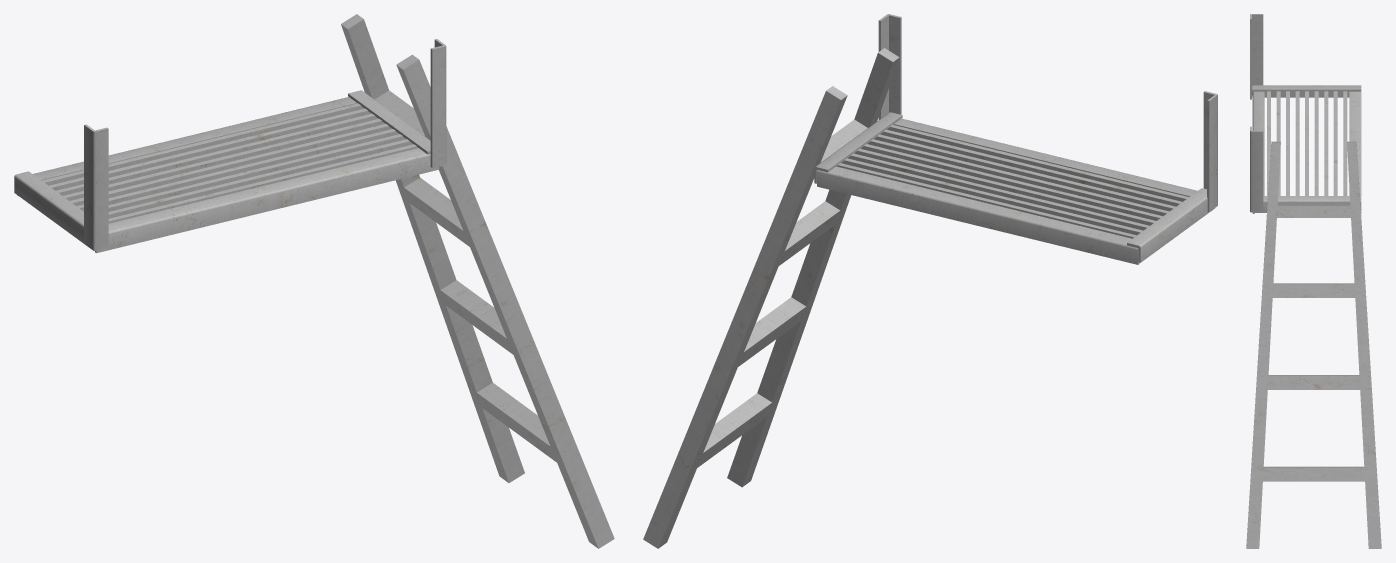
The model's file is Commit_03.FBX.
The picture shows the model from 3 angles, left to right: view 1: azimuth 30°, elevation 25°; view 2: azimuth 150°, elevation 25°; view 3: azimuth 270°, elevation 25°; orthographic projection. The views are drawn at different scales.
Parts seen in each view (by area): view 1: Box101, lestnitsa; view 2: Box101, lestnitsa; view 3: lestnitsa, Box101.
Boxes of the visible parts, x1,y1,x2,y2 form: Box101: (14,39,446,253); lestnitsa: (341,14,614,548); Box101: (814,14,1217,264); lestnitsa: (643,48,899,548); lestnitsa: (1246,141,1381,548); Box101: (1250,14,1361,213).
Bounding box in the file's own units: 34.94 × 34.63 × 11.59.
1 material, 1 textured.
